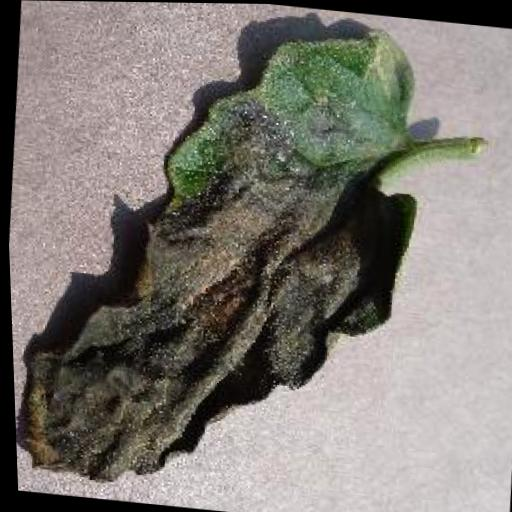Late Blight: (0, 0, 439, 511)
